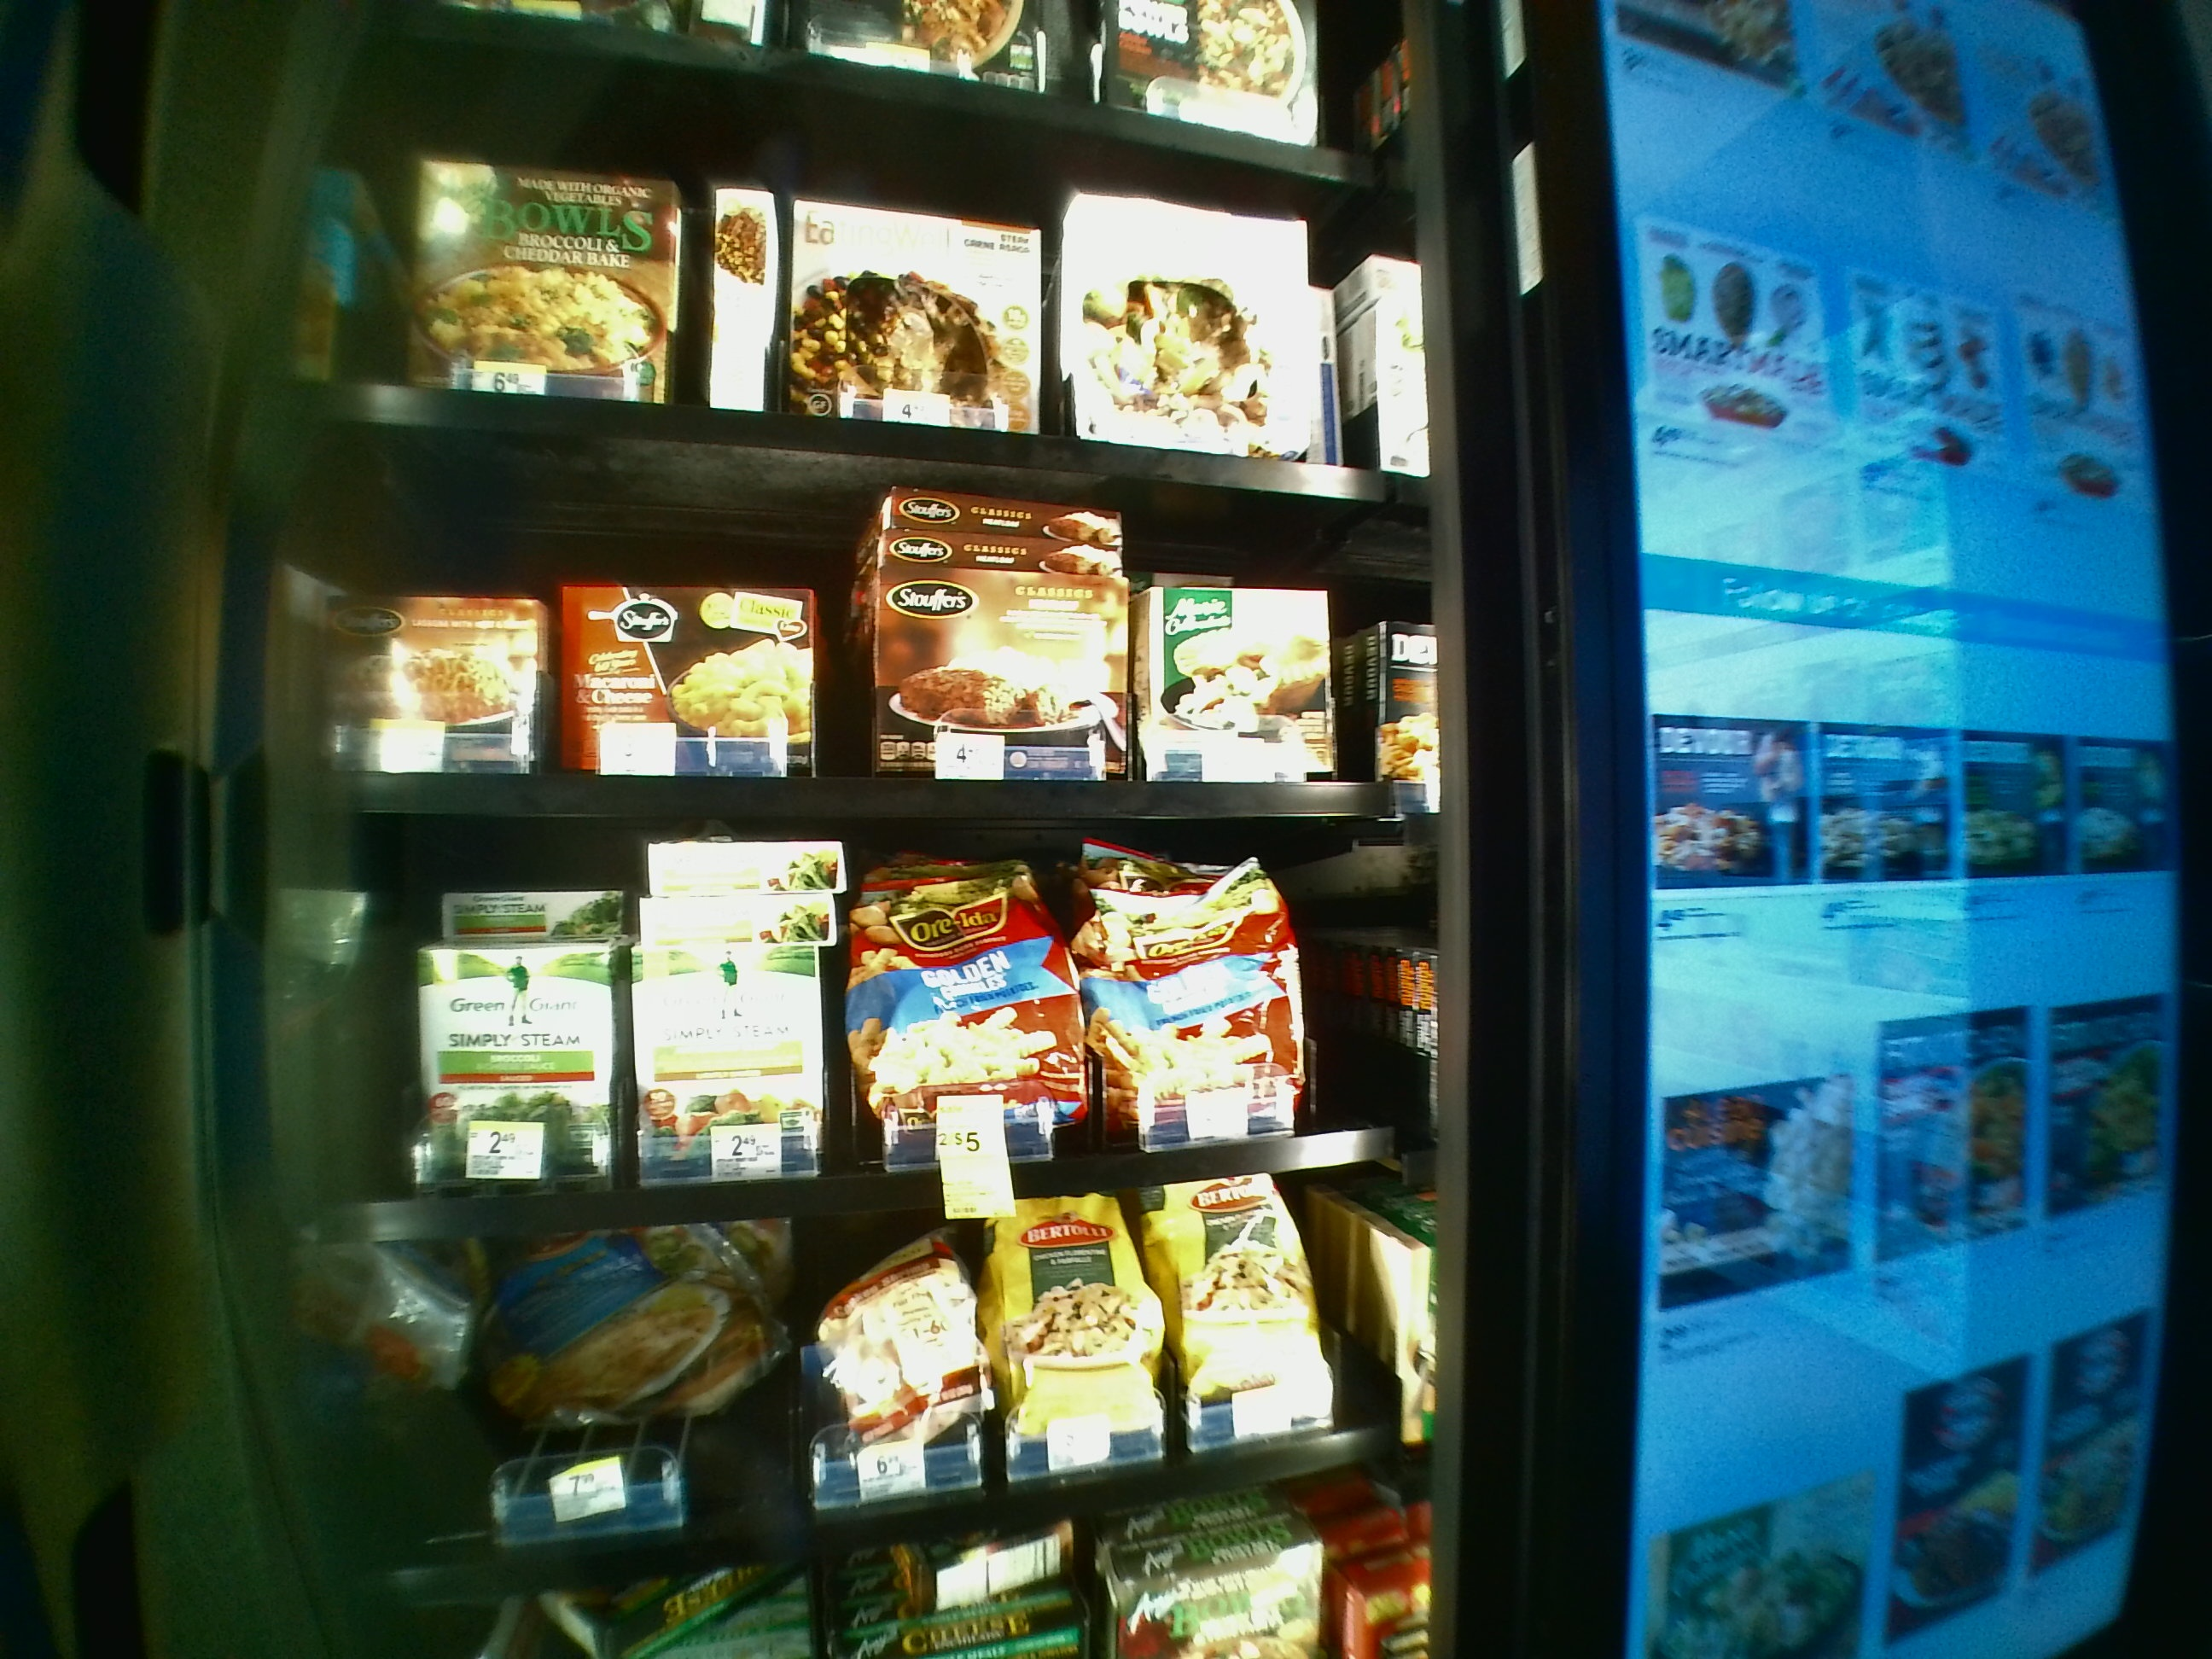shelf: (279, 847, 1439, 1239), (279, 434, 1425, 829)
